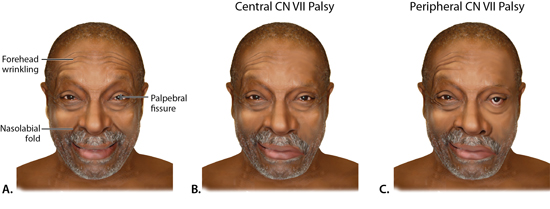stroke: (426, 45, 517, 188)
